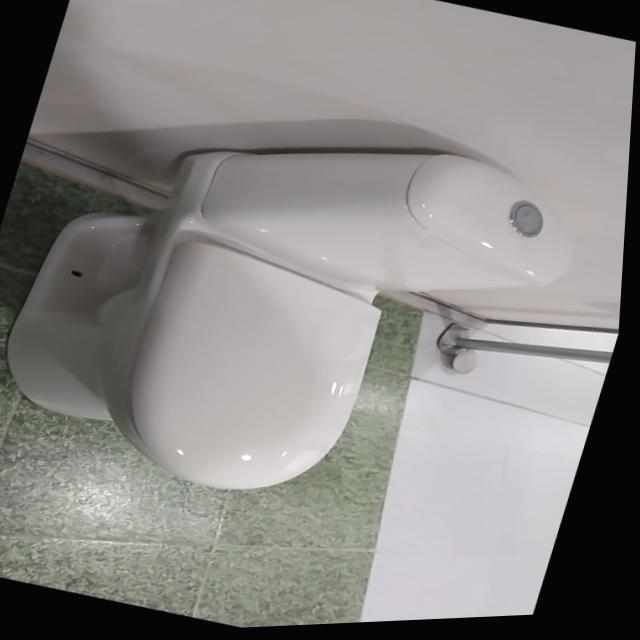toilet: (0, 59, 602, 567)
